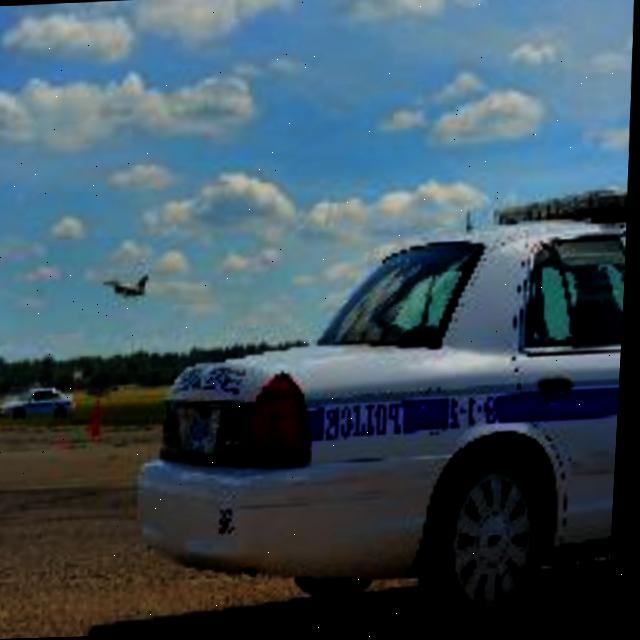emergency: (139, 157, 633, 623)
